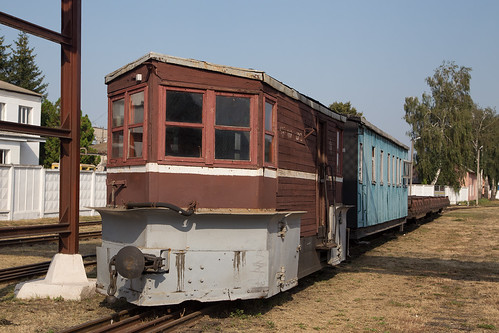sky: (83, 1, 491, 104)
train: (104, 60, 435, 299)
vegetation: (418, 74, 499, 188)
